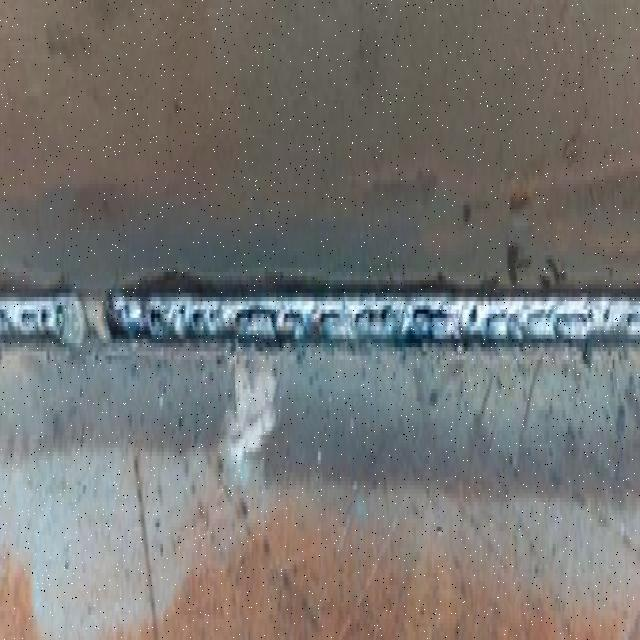Porosity: (0, 268, 640, 363)
